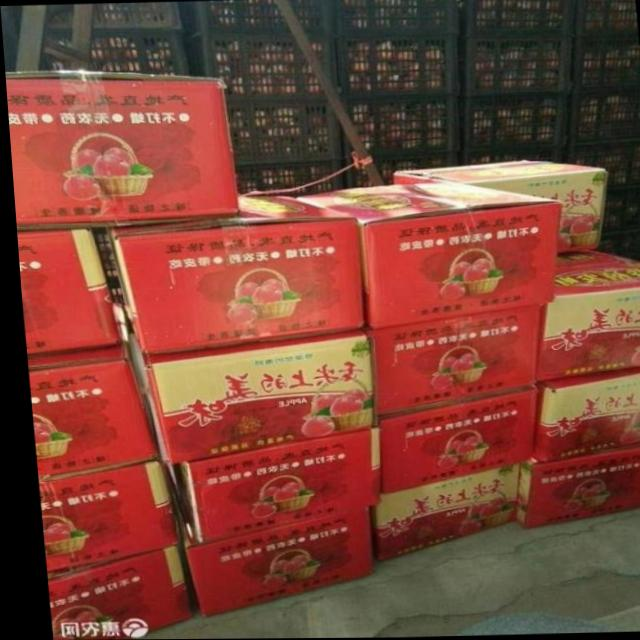box: (99, 194, 361, 356), (293, 177, 555, 328), (4, 70, 239, 229), (135, 330, 368, 468), (173, 426, 372, 539), (172, 505, 367, 616), (389, 156, 604, 256), (366, 382, 535, 497), (358, 306, 536, 415), (23, 337, 155, 481), (366, 457, 517, 566), (32, 458, 171, 573), (39, 533, 182, 640), (529, 255, 640, 384), (13, 226, 114, 354), (503, 444, 640, 528), (525, 367, 640, 462)
